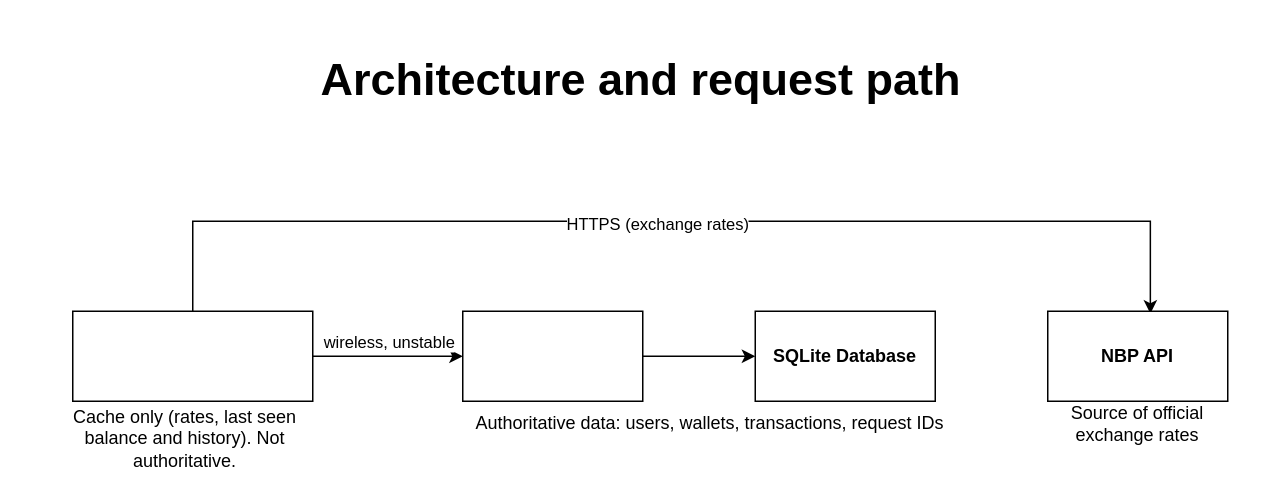
This 1281x497 diagram has some shape labels left out. The centre of each missing label's shape, as x and y in pixels:
"Mobile app (+ Local Cache)" belongs at point (192, 355).
"Web Service" belongs at point (552, 355).
